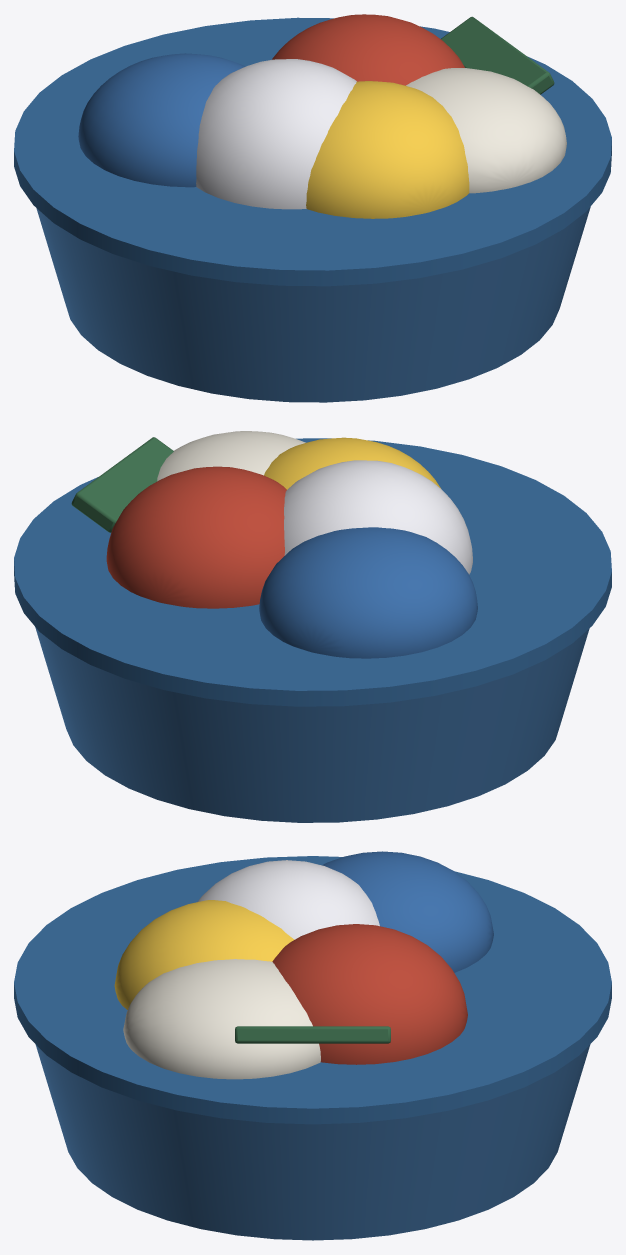
Rendered from Thau_Nhua_QuanAo.glb.
3 views of the same model, one above another, from view 1: azimuth 30°, elevation 25°; view 2: azimuth 150°, elevation 25°; view 3: azimuth 270°, elevation 25° (orthographic).
Visible parts, largest first — view 1: Thau_Nhua_QuanAo_1, Thau_Nhua_QuanAo, Thau_Nhua_QuanAo_2, Thau_Nhua_QuanAo_5, Thau_Nhua_QuanAo_4, Thau_Nhua_QuanAo_6, Thau_Nhua_QuanAo_3, Thau_Nhua_QuanAo_7; view 2: Thau_Nhua_QuanAo_1, Thau_Nhua_QuanAo, Thau_Nhua_QuanAo_4, Thau_Nhua_QuanAo_3, Thau_Nhua_QuanAo_2, Thau_Nhua_QuanAo_7, Thau_Nhua_QuanAo_6, Thau_Nhua_QuanAo_5; view 3: Thau_Nhua_QuanAo_1, Thau_Nhua_QuanAo, Thau_Nhua_QuanAo_3, Thau_Nhua_QuanAo_6, Thau_Nhua_QuanAo_4, Thau_Nhua_QuanAo_5, Thau_Nhua_QuanAo_2, Thau_Nhua_QuanAo_7.
Boxes of the visible parts, <box> form: Thau_Nhua_QuanAo_1: <box>14,17,611,286</box>; Thau_Nhua_QuanAo: <box>36,207,590,402</box>; Thau_Nhua_QuanAo_2: <box>196,59,356,209</box>; Thau_Nhua_QuanAo_5: <box>306,81,469,218</box>; Thau_Nhua_QuanAo_4: <box>78,53,245,187</box>; Thau_Nhua_QuanAo_6: <box>406,68,566,193</box>; Thau_Nhua_QuanAo_3: <box>272,14,464,85</box>; Thau_Nhua_QuanAo_7: <box>441,16,554,94</box>; Thau_Nhua_QuanAo_1: <box>14,438,611,706</box>; Thau_Nhua_QuanAo: <box>35,627,589,822</box>; Thau_Nhua_QuanAo_4: <box>259,527,477,658</box>; Thau_Nhua_QuanAo_3: <box>106,466,286,608</box>; Thau_Nhua_QuanAo_2: <box>284,460,472,574</box>; Thau_Nhua_QuanAo_7: <box>71,437,173,532</box>; Thau_Nhua_QuanAo_6: <box>157,431,305,481</box>; Thau_Nhua_QuanAo_5: <box>264,437,440,489</box>; Thau_Nhua_QuanAo_1: <box>14,856,611,1124</box>; Thau_Nhua_QuanAo: <box>35,1044,590,1240</box>; Thau_Nhua_QuanAo_3: <box>272,924,467,1064</box>; Thau_Nhua_QuanAo_6: <box>123,959,320,1079</box>; Thau_Nhua_QuanAo_4: <box>322,851,493,972</box>; Thau_Nhua_QuanAo_5: <box>114,900,294,1009</box>; Thau_Nhua_QuanAo_2: <box>197,860,379,939</box>; Thau_Nhua_QuanAo_7: <box>235,1026,390,1043</box>.
Bounding box in the file's own units: 0.6886 × 0.3128 × 0.6886.
